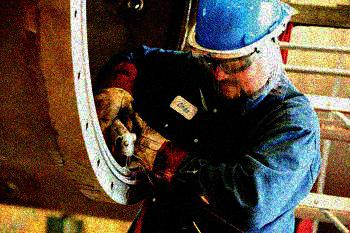helmet: (186, 1, 291, 95)
